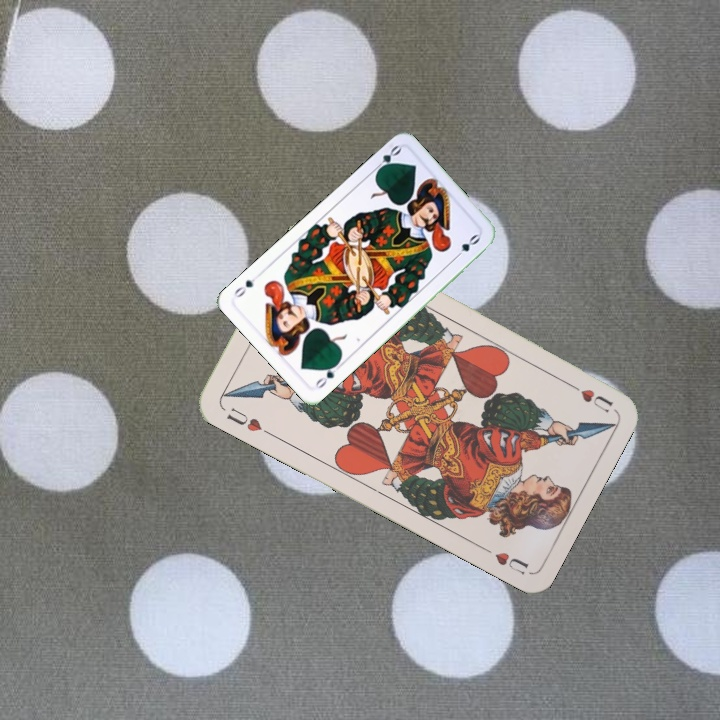GO: (369, 141, 404, 176), (311, 358, 345, 391)
HU: (562, 377, 616, 415), (222, 403, 274, 438)
